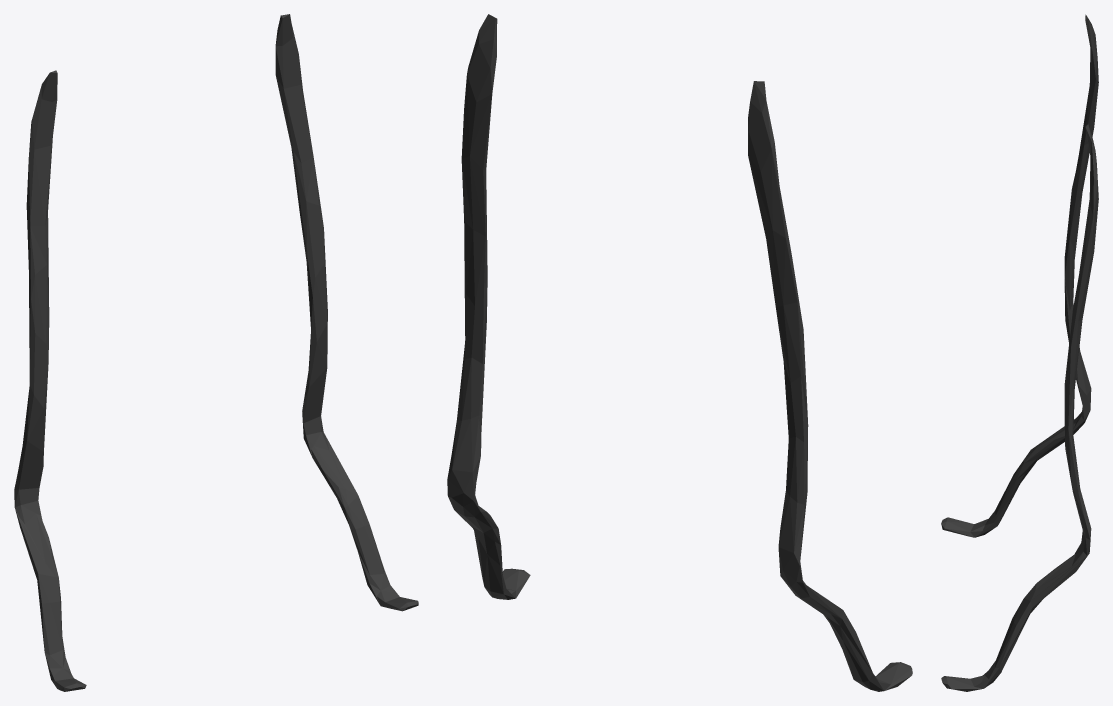
The model's file is tendon_flexor_digitorum_profundus_HL.glb.
3 views of the same model, side by side, from view 1: azimuth 30°, elevation 25°; view 2: azimuth 150°, elevation 25°; view 3: azimuth 270°, elevation 25° (orthographic). The views are drawn at different scales.
Parts seen in each view (by area): view 1: tendon_flexor_digitorum_profundus_HL; view 2: tendon_flexor_digitorum_profundus_HL; view 3: tendon_flexor_digitorum_profundus_HL.
Part boxes in pixels (bbox=[...]): tendon_flexor_digitorum_profundus_HL: bbox=[14, 14, 418, 691]; tendon_flexor_digitorum_profundus_HL: bbox=[447, 14, 912, 691]; tendon_flexor_digitorum_profundus_HL: bbox=[941, 14, 1098, 691].
Size of the model in its own units: 0.00561 by 0.00839 by 0.00222.
Materials: 1 (1 with a texture image).
